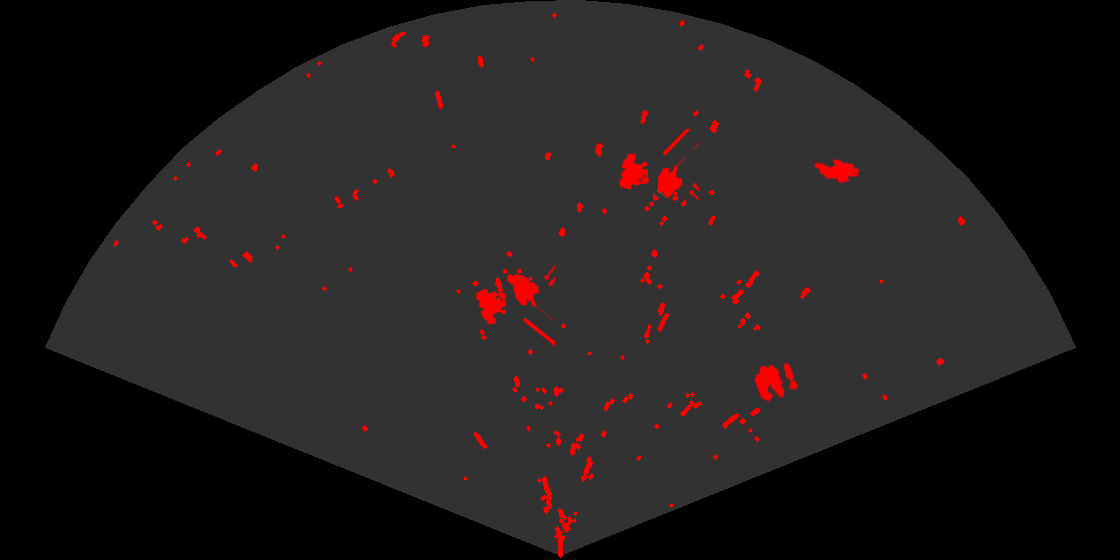AUV: (813, 157, 861, 185)
ball: (752, 361, 799, 403)
cage: (474, 264, 555, 347), (618, 129, 699, 208)
